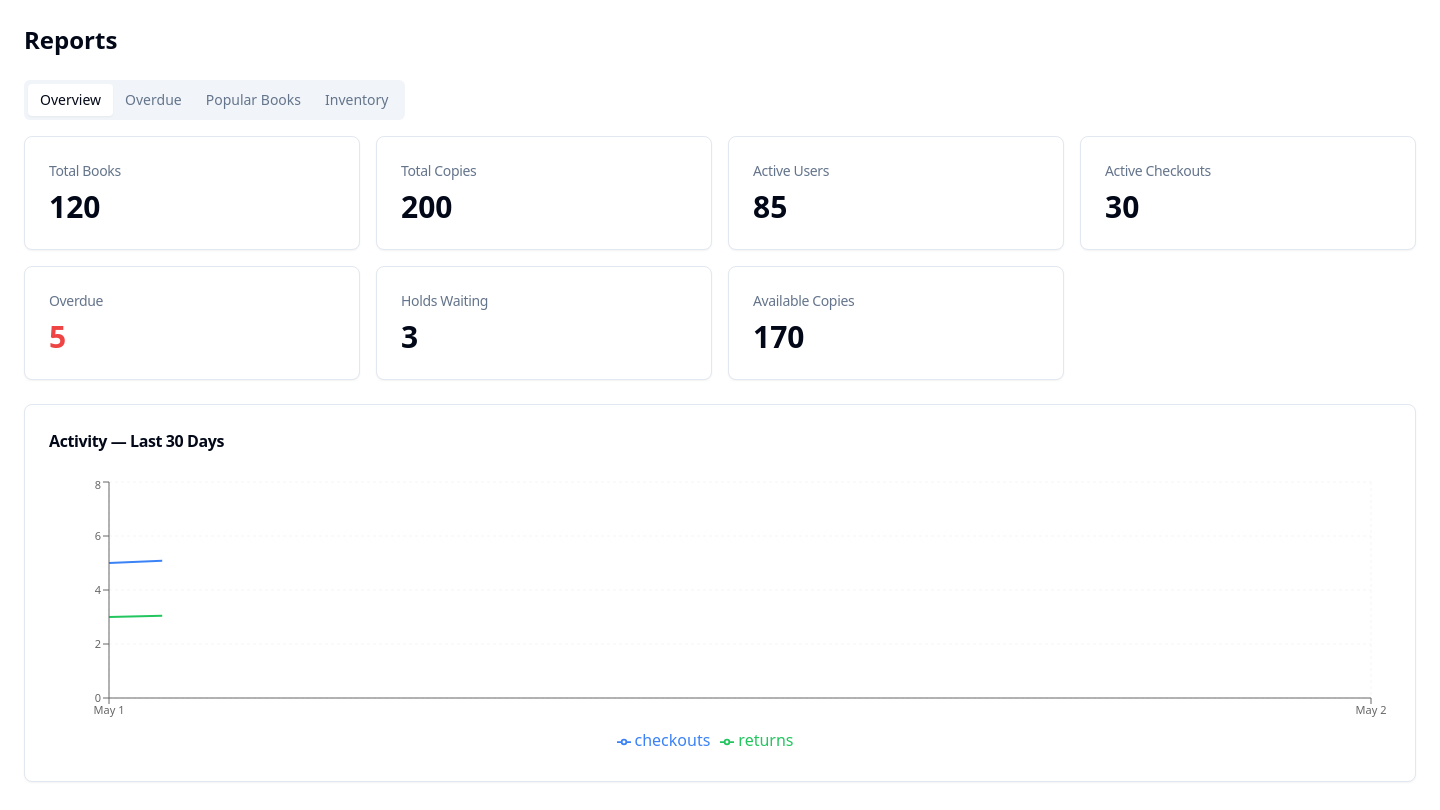
ReportsPage › shows overdue items when Overdue tab is clicked
Step 1. Click the tab "Overdue" → (153, 100), box [113,84,194,116]
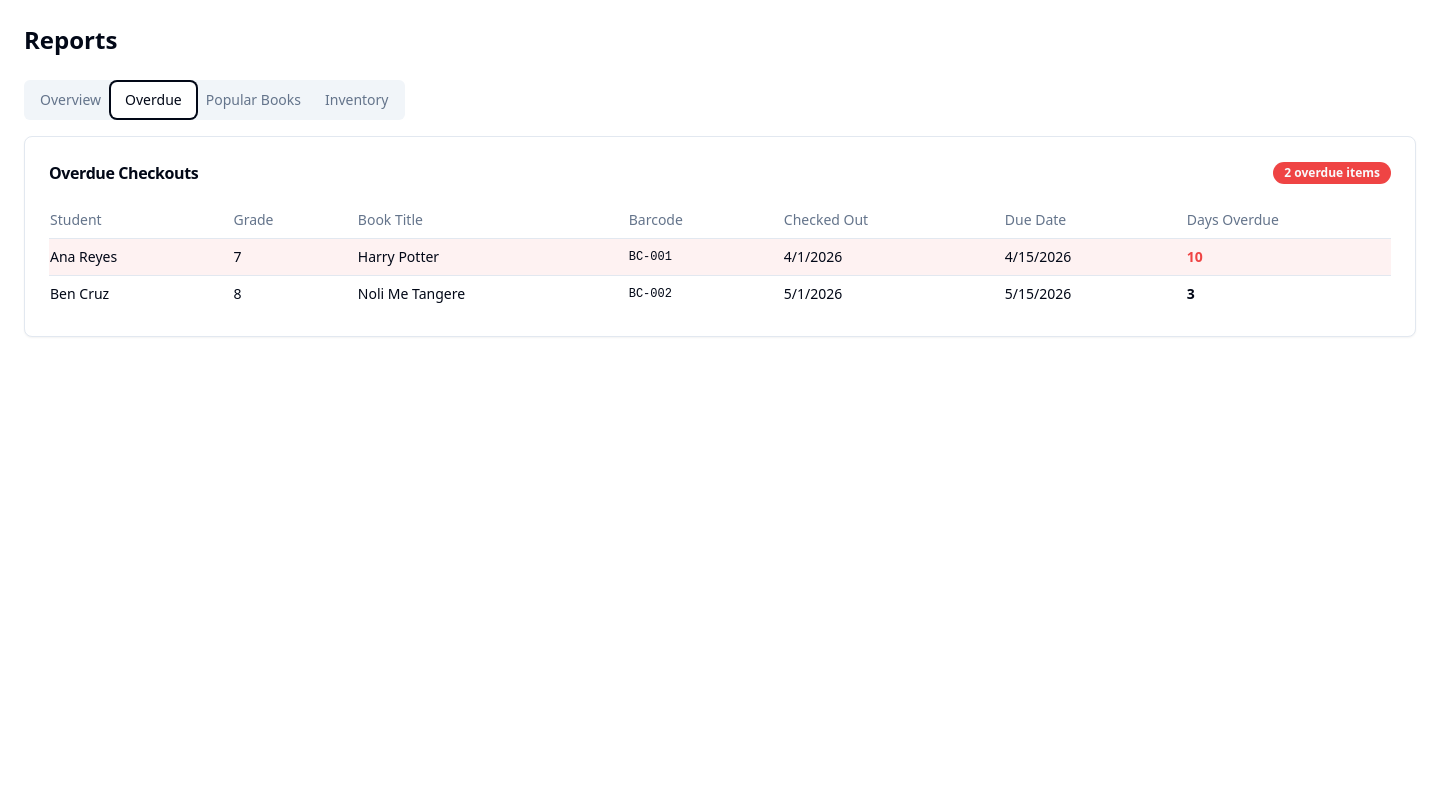
Result: the text "Ana Reyes" is shown at [49,238,232,276]
Result: the text "Ben Cruz" is shown at [49,276,232,312]
